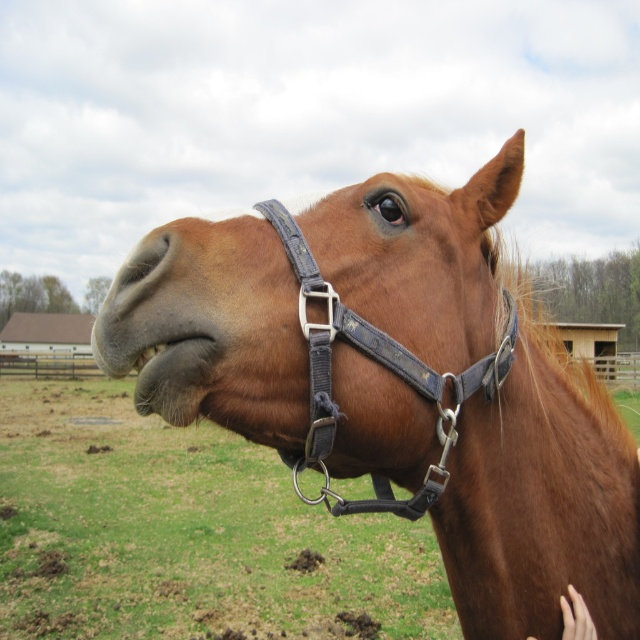Horse: (92, 131, 640, 639)
